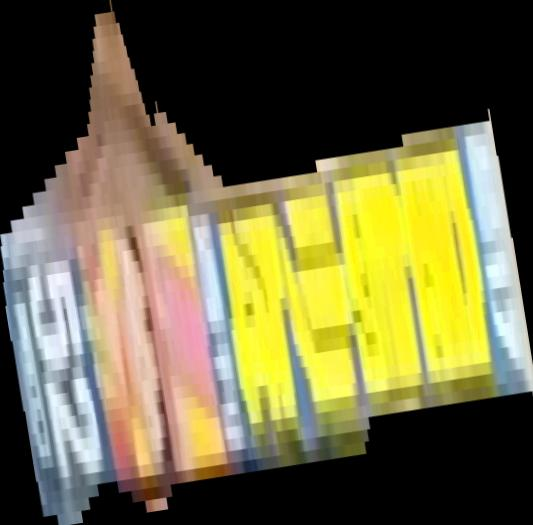flat: (1, 1, 533, 525)
